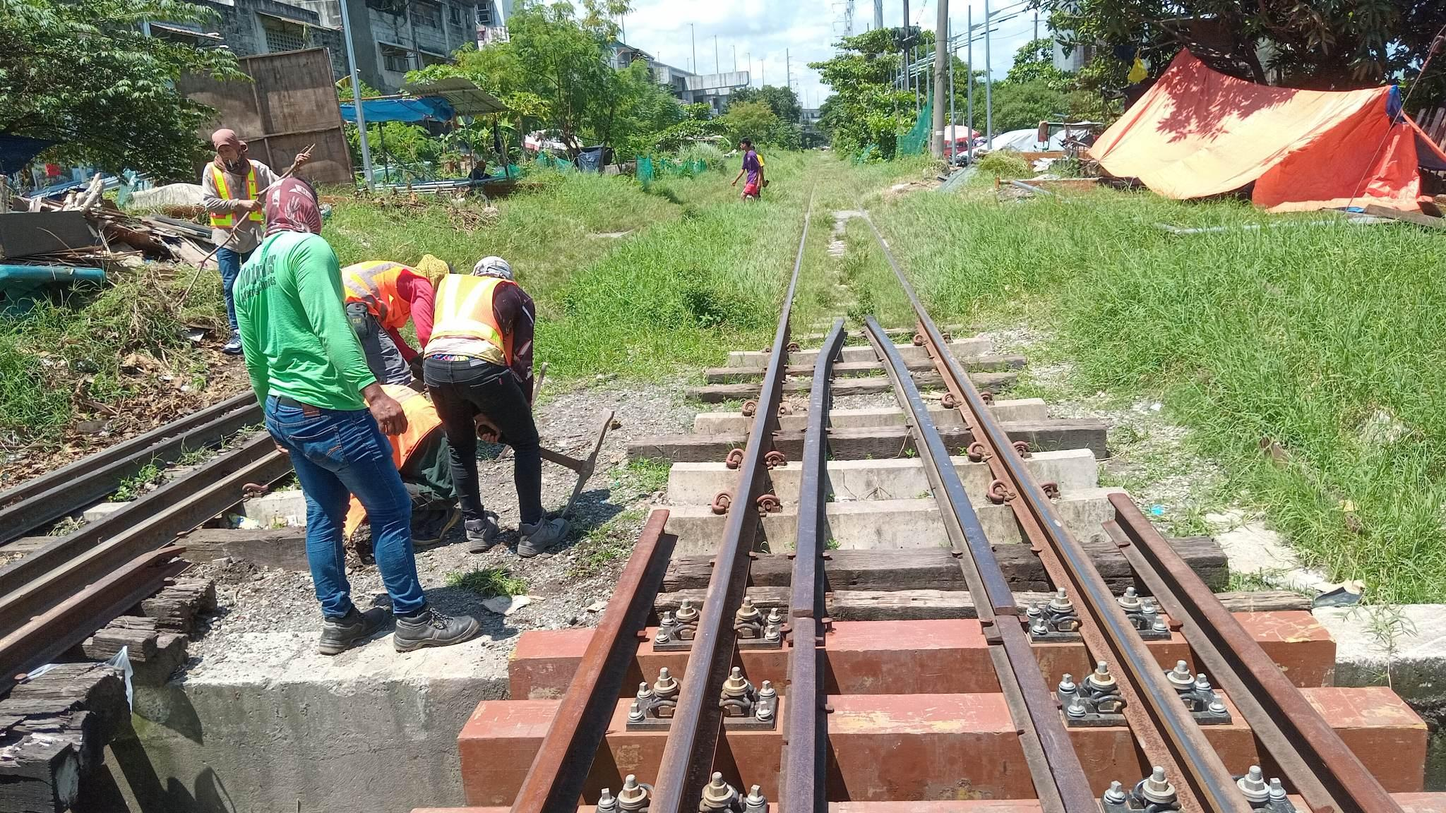railway-gap: (969, 579, 1045, 649), (770, 588, 836, 650)
